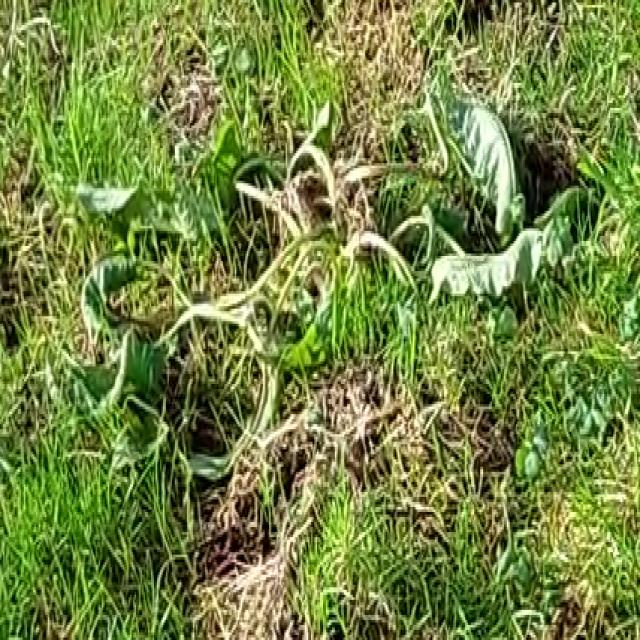organic waste: (39, 45, 597, 512)
